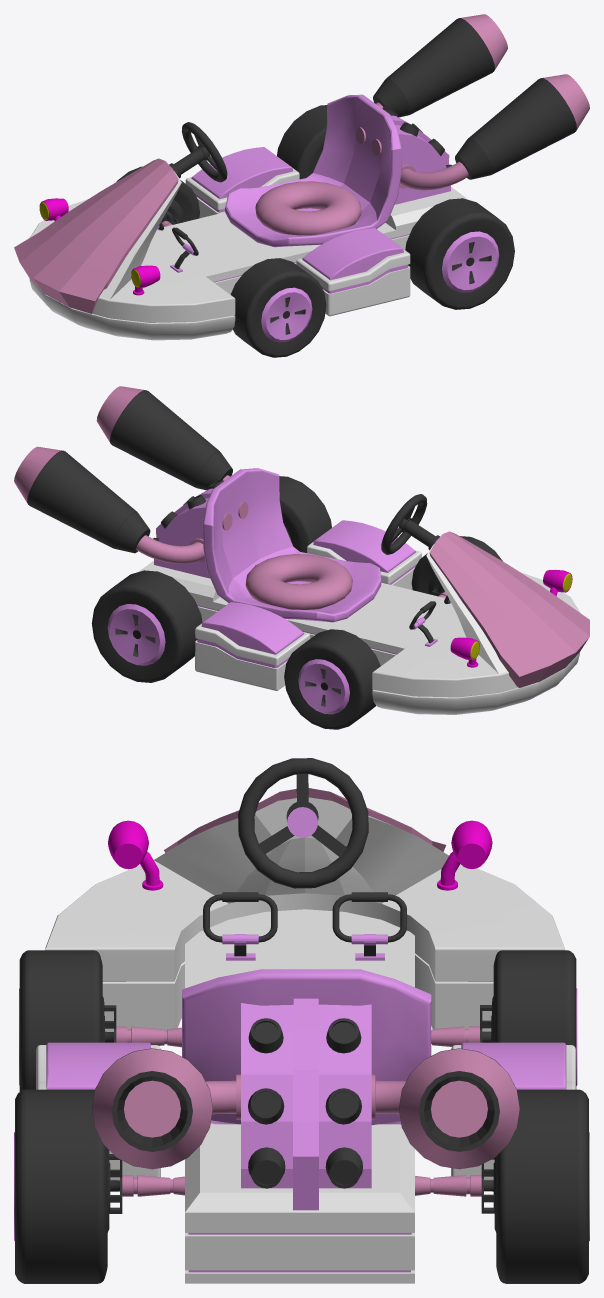
The model's file is PARKER IS CUTIE.fbx.
3 renders of one model, top to bottom at view 1: azimuth 30°, elevation 25°; view 2: azimuth 150°, elevation 25°; view 3: azimuth 270°, elevation 25°, orthographic. The views are drawn at different scales.
Visible parts, largest first — view 1: polySurface9, pCube3, polySurface8, Go_cart:Go_cart4:Go_cart3:Go_cart:pCylinder1, pCube5, pCylinder6, Go_cart:Go_cart3:Go_cart:pCylinder1, pasted__pCylinder6, pTorus2, polySurface6, pCube2, pasted__pCube2 (+10 smaller); view 2: polySurface9, pCube3, polySurface8, Go_cart:Go_cart6:Go_cart4:Go_cart3:Go_cart:pCylinder1, pCube5, pasted__pCylinder6, pCylinder6, Go_cart:Go_cart5:Go_cart3:Go_cart:pCylinder1, pTorus2, pasted__polySurface6, pasted__pCube2, pCube2 (+10 smaller); view 3: polySurface8, pCube5, pCylinder3, Go_cart:Go_cart4:Go_cart3:Go_cart:pCylinder1, Go_cart:Go_cart6:Go_cart4:Go_cart3:Go_cart:pCylinder1, pCube3, pCylinder6, pasted__pCylinder6, Go_cart:Go_cart3:Go_cart:pCylinder1, Go_cart:Go_cart5:Go_cart3:Go_cart:pCylinder1, pTorus3, pasted__pCube2 (+19 smaller).
Part boxes in pixels (left/top/right/bottom): polySurface9: left=14, top=158, right=178, bottom=313; pCube3: left=225, top=94, right=401, bottom=247; polySurface8: left=29, top=171, right=235, bottom=340; Go_cart:Go_cart4:Go_cart3:Go_cart:pCylinder1: left=405, top=198, right=514, bottom=309; pCube5: left=141, top=187, right=468, bottom=294; pCylinder6: left=455, top=74, right=589, bottom=179; Go_cart:Go_cart3:Go_cart:pCylinder1: left=230, top=258, right=326, bottom=357; pasted__pCylinder6: left=373, top=14, right=507, bottom=117; pTorus2: left=255, top=181, right=361, bottom=235; polySurface6: left=296, top=249, right=410, bottom=316; pCube2: left=302, top=228, right=403, bottom=280; pasted__pCube2: left=191, top=147, right=292, bottom=199; polySurface9: left=429, top=531, right=589, bottom=687; pCube3: left=203, top=468, right=381, bottom=622; polySurface8: left=372, top=544, right=580, bottom=714; Go_cart:Go_cart6:Go_cart4:Go_cart3:Go_cart:pCylinder1: left=91, top=570, right=202, bottom=682; pCube5: left=139, top=560, right=466, bottom=665; pasted__pCylinder6: left=14, top=446, right=150, bottom=553; pCylinder6: left=96, top=386, right=232, bottom=490; Go_cart:Go_cart5:Go_cart3:Go_cart:pCylinder1: left=284, top=629, right=380, bottom=729; pTorus2: left=245, top=554, right=352, bottom=609; pasted__polySurface6: left=195, top=623, right=310, bottom=690; pasted__pCube2: left=201, top=602, right=304, bottom=654; pCube2: left=313, top=520, right=415, bottom=572; polySurface8: left=45, top=797, right=565, bottom=1031; pCube5: left=185, top=909, right=414, bottom=1283; pCylinder3: left=241, top=998, right=371, bottom=1210; Go_cart:Go_cart4:Go_cart3:Go_cart:pCylinder1: left=14, top=1089, right=110, bottom=1283; Go_cart:Go_cart6:Go_cart4:Go_cart3:Go_cart:pCylinder1: left=493, top=1089, right=589, bottom=1283; pCube3: left=182, top=969, right=431, bottom=1125; pCylinder6: left=92, top=1048, right=212, bottom=1169; pasted__pCylinder6: left=399, top=1048, right=519, bottom=1169; Go_cart:Go_cart3:Go_cart:pCylinder1: left=19, top=950, right=104, bottom=1091; Go_cart:Go_cart5:Go_cart3:Go_cart:pCylinder1: left=491, top=950, right=577, bottom=1089; pTorus3: left=238, top=758, right=368, bottom=888; pasted__pCube2: left=461, top=1042, right=566, bottom=1089.
Size of the model in its own units: 12.5 by 4.27 by 6.53.
